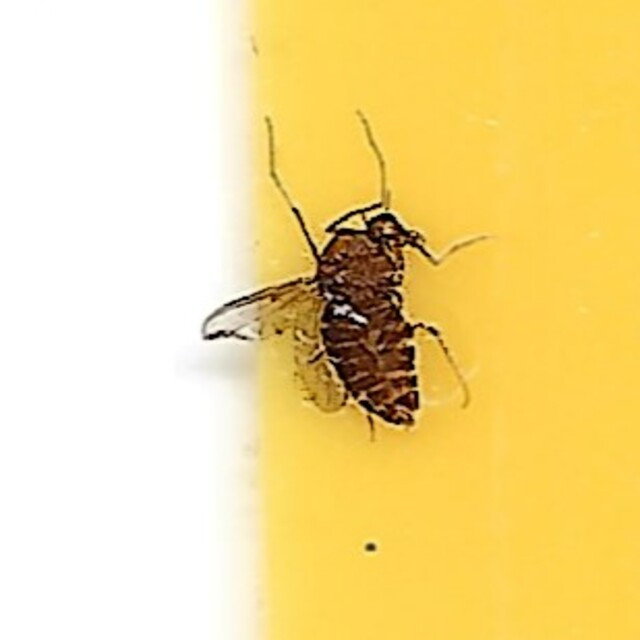Nematocera: (207, 189, 433, 451)
